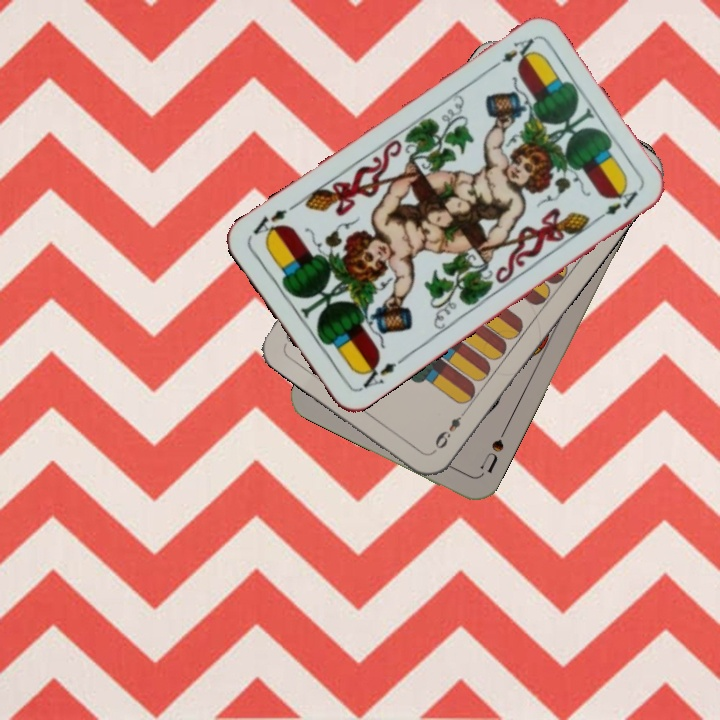E9: (430, 406, 470, 452)
EA: (356, 353, 407, 393), (486, 33, 537, 73)
SU: (476, 423, 510, 479)
